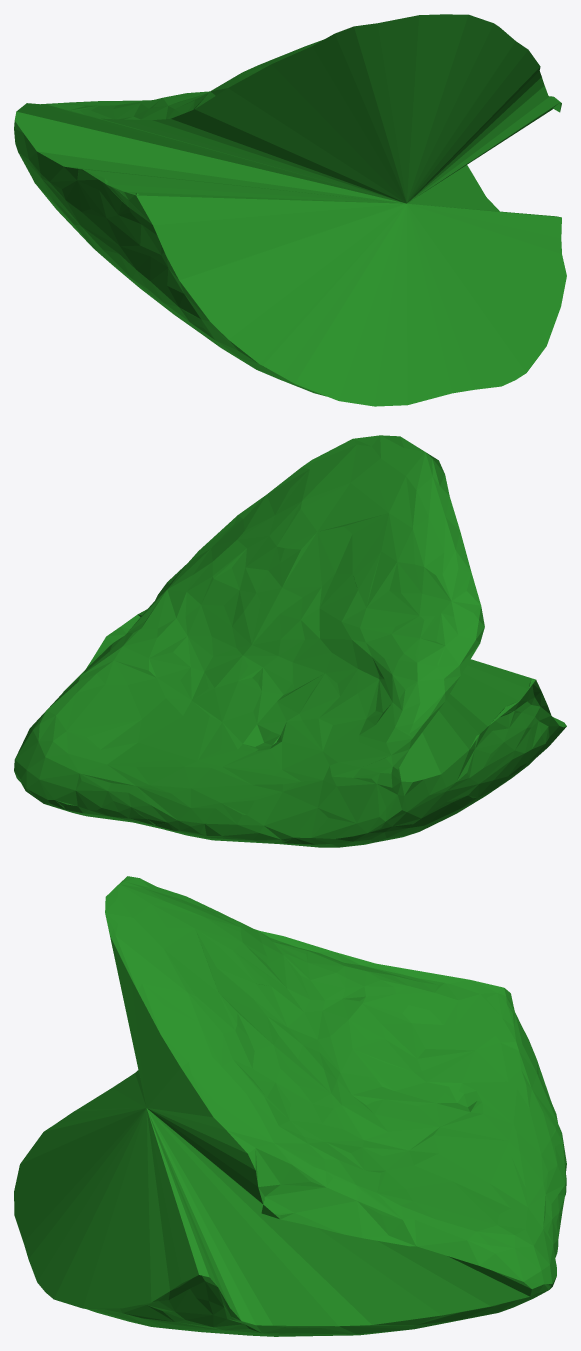
File: Crown_11__Demo_Virtual_Patient.obj
The picture shows the model from 3 angles, top to bottom: view 1: azimuth 30°, elevation 25°; view 2: azimuth 150°, elevation 25°; view 3: azimuth 270°, elevation 25°; orthographic projection. The views are drawn at different scales.
Size of the model in its own units: 9.41 by 7.49 by 9.75.
